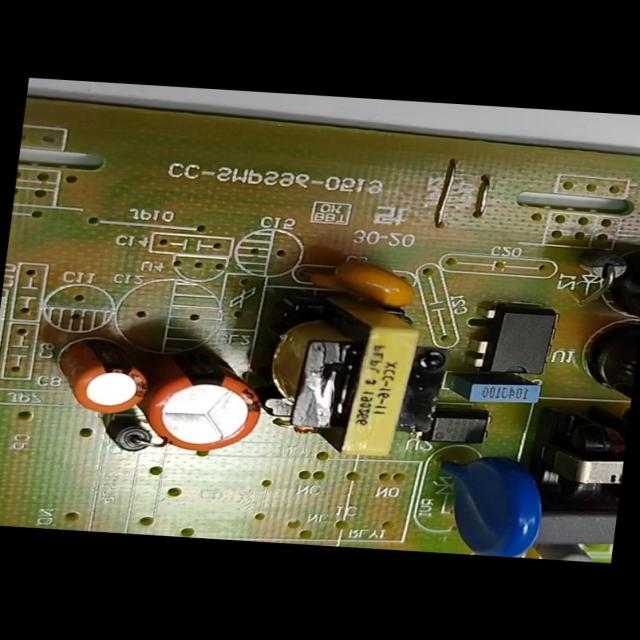Cap1: (140, 340, 269, 454)
Cap2: (53, 341, 154, 415)
Cap3: (598, 243, 639, 347)
Cap4: (574, 333, 638, 422)
MOSFET: (474, 304, 563, 377)
Mov: (431, 448, 553, 558)
Resistor: (540, 542, 600, 562)
Transformer: (259, 295, 449, 462), (550, 425, 627, 500)
